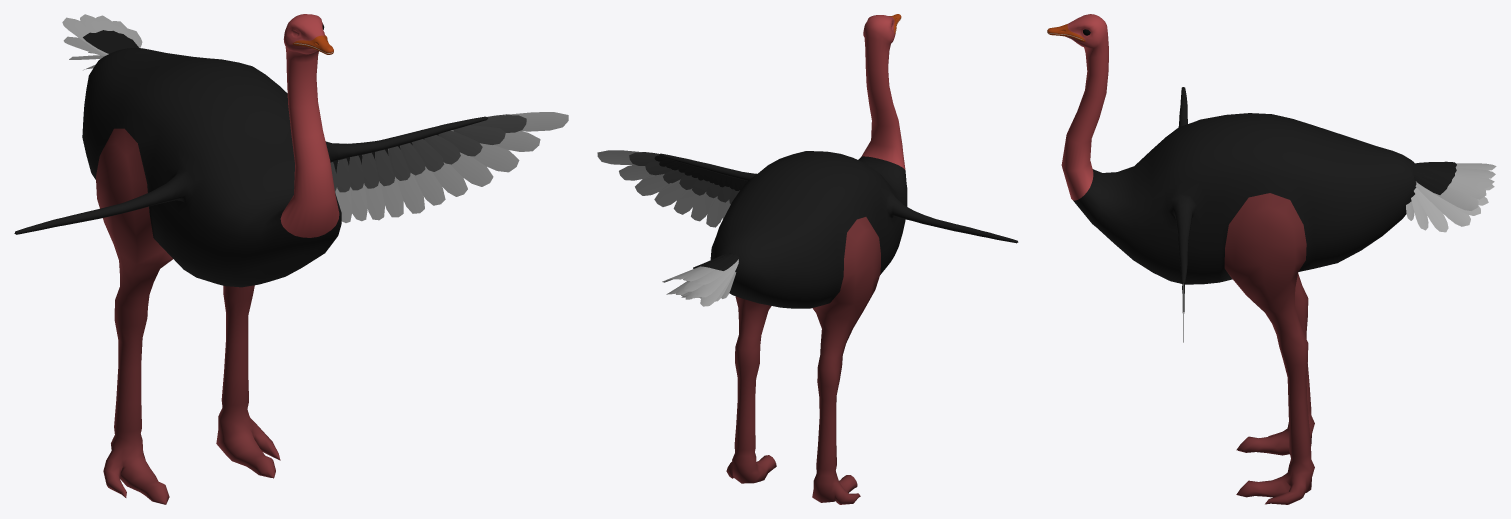
Rendered from ostrich.obj.
The picture shows the model from 3 angles, left to right: view 1: azimuth 30°, elevation 25°; view 2: azimuth 150°, elevation 25°; view 3: azimuth 270°, elevation 25°; orthographic projection. The views are drawn at different scales.
Visible parts, largest first — view 1: ostrich, feather_flight_primary_010, feather_flight_primary_012, feather_flight_primary_009, feather_flight_secondary_011, feather_flight_primary_007, feather_flight_primary_006, feather_flight_primary_008, feather_flight_primary_011, feather_flight_secondary_012, feather_flight_primary_005; view 2: ostrich, feather_flight_primary_010, feather_flight_primary_009, feather_flight_primary_012; view 3: ostrich, feather_tail_primary_006, feather_tail_primary_001, feather_tail_primary_011.
Boxes of the visible parts, bbox=[...] form: ostrich: bbox=[14, 14, 487, 504]; feather_flight_primary_010: bbox=[451, 130, 519, 172]; feather_flight_primary_012: bbox=[502, 112, 568, 131]; feather_flight_primary_009: bbox=[450, 152, 493, 186]; feather_flight_secondary_011: bbox=[453, 125, 505, 144]; feather_flight_primary_007: bbox=[413, 166, 445, 205]; feather_flight_primary_006: bbox=[388, 149, 424, 213]; feather_flight_primary_008: bbox=[432, 162, 467, 196]; feather_flight_primary_011: bbox=[494, 131, 540, 151]; feather_flight_secondary_012: bbox=[471, 115, 526, 132]; feather_flight_primary_005: bbox=[380, 177, 403, 217]; ostrich: bbox=[659, 14, 1018, 504]; feather_flight_primary_010: bbox=[635, 174, 680, 195]; feather_flight_primary_009: bbox=[654, 181, 689, 206]; feather_flight_primary_012: bbox=[597, 150, 642, 164]; ostrich: bbox=[1047, 14, 1416, 504]; feather_tail_primary_006: bbox=[1415, 182, 1470, 226]; feather_tail_primary_001: bbox=[1416, 181, 1478, 210]; feather_tail_primary_011: bbox=[1414, 187, 1448, 232].
Size of the model in its own units: 2.15 by 2 by 1.78.
